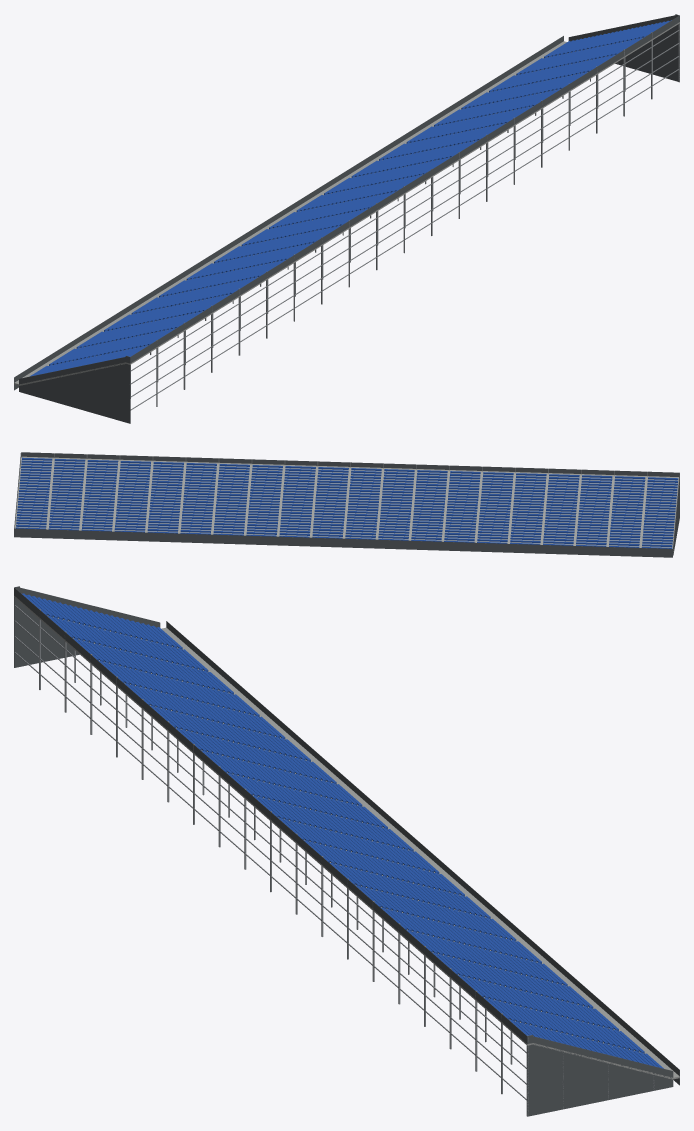
Rendered from zan_stand_eastside_1.glb.
The picture shows the model from 3 angles, top to bottom: view 1: azimuth 30°, elevation 25°; view 2: azimuth 150°, elevation 25°; view 3: azimuth 270°, elevation 25°; orthographic projection. The views are drawn at different scales.
Parts seen in each view (by area): view 1: zandvoort-eastside-1; view 2: zandvoort-eastside-1; view 3: zandvoort-eastside-1.
Part boxes in pixels (box(x1,y1,x2,y2)): zandvoort-eastside-1: box(14, 14, 679, 423); zandvoort-eastside-1: box(14, 452, 679, 557); zandvoort-eastside-1: box(14, 586, 679, 1116).
Bounding box in the file's own units: 158 × 12.32 × 92.43.
